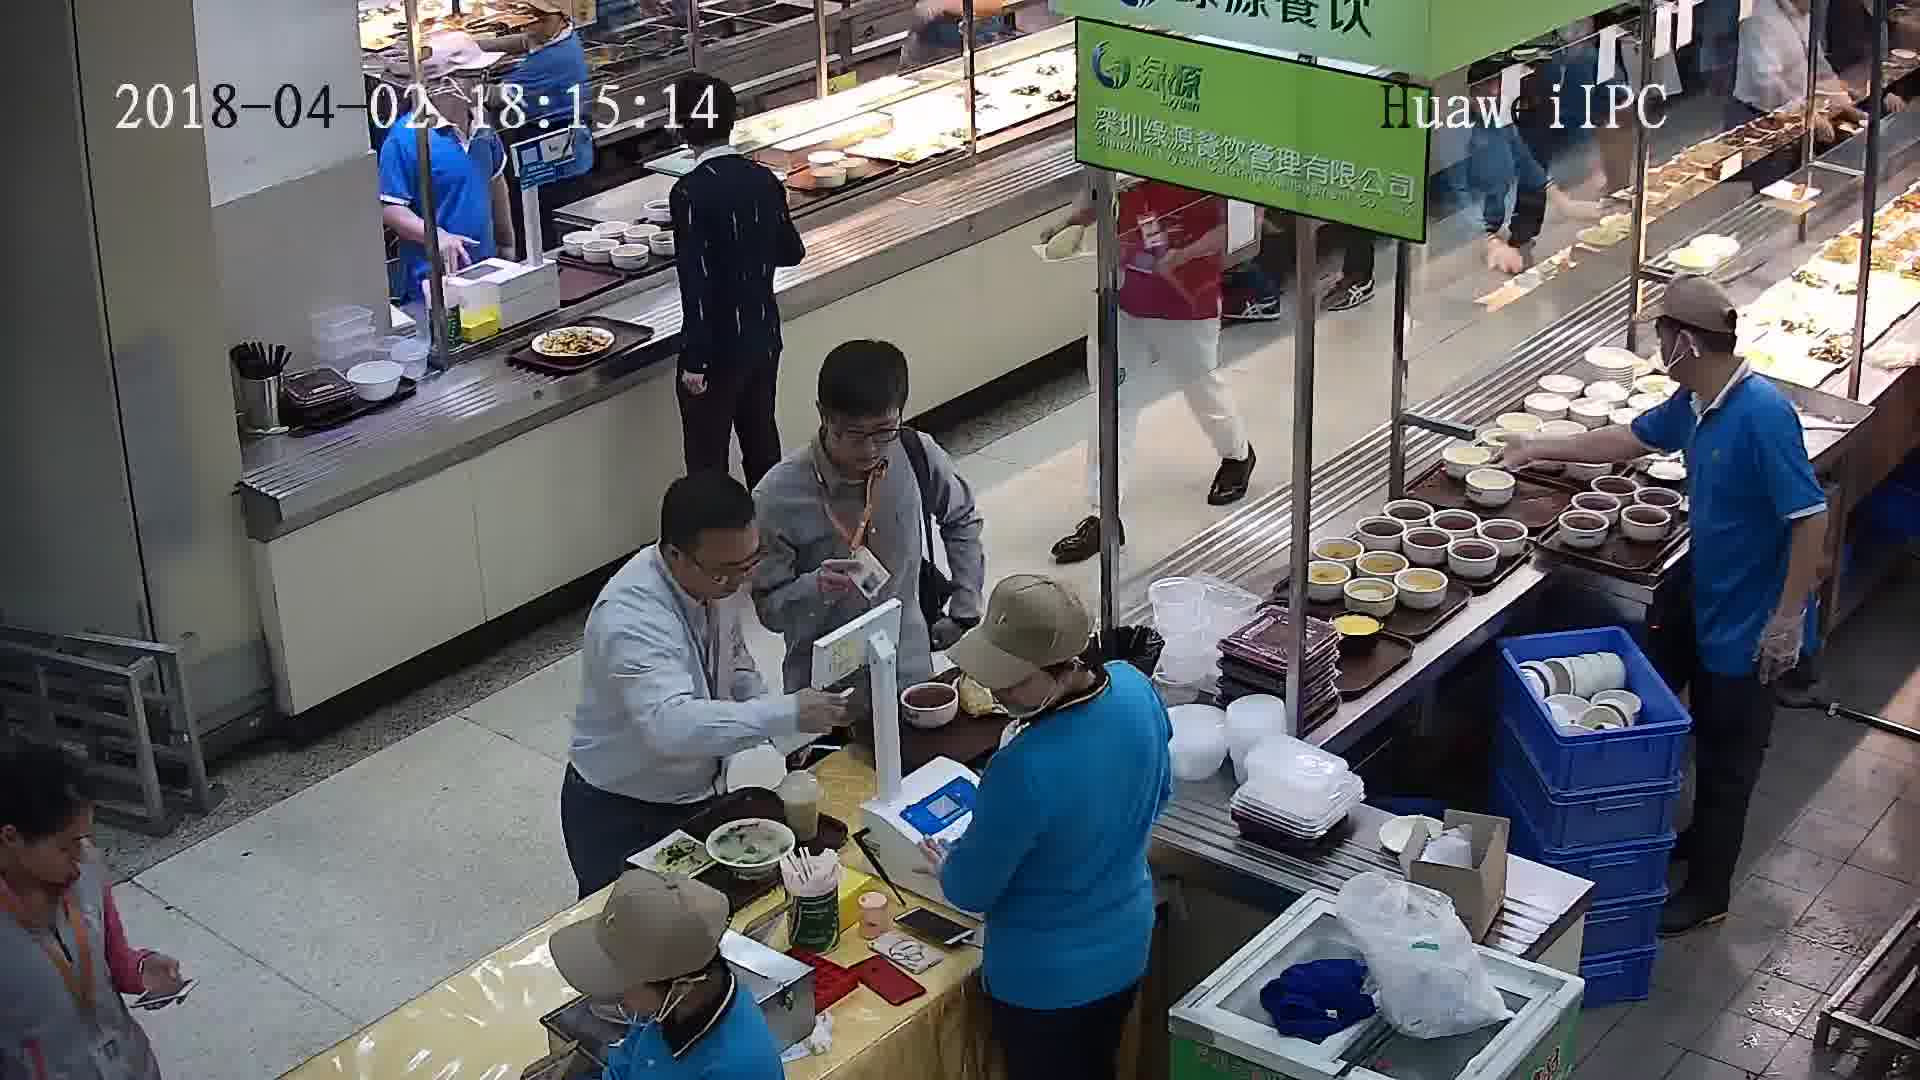face: (19, 811, 95, 887), (682, 527, 757, 602), (829, 407, 898, 475), (1634, 315, 1702, 383)
person: (966, 572, 1166, 799), (579, 868, 783, 1079), (585, 470, 772, 671), (752, 339, 948, 524), (1637, 269, 1801, 460), (1, 735, 125, 985), (376, 33, 515, 172), (662, 81, 784, 212), (505, 6, 593, 67)
